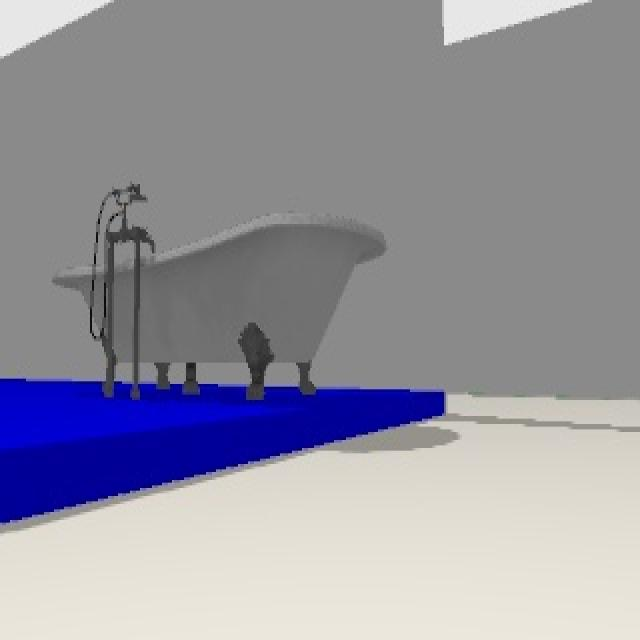bathtub: (54, 179, 386, 398)
